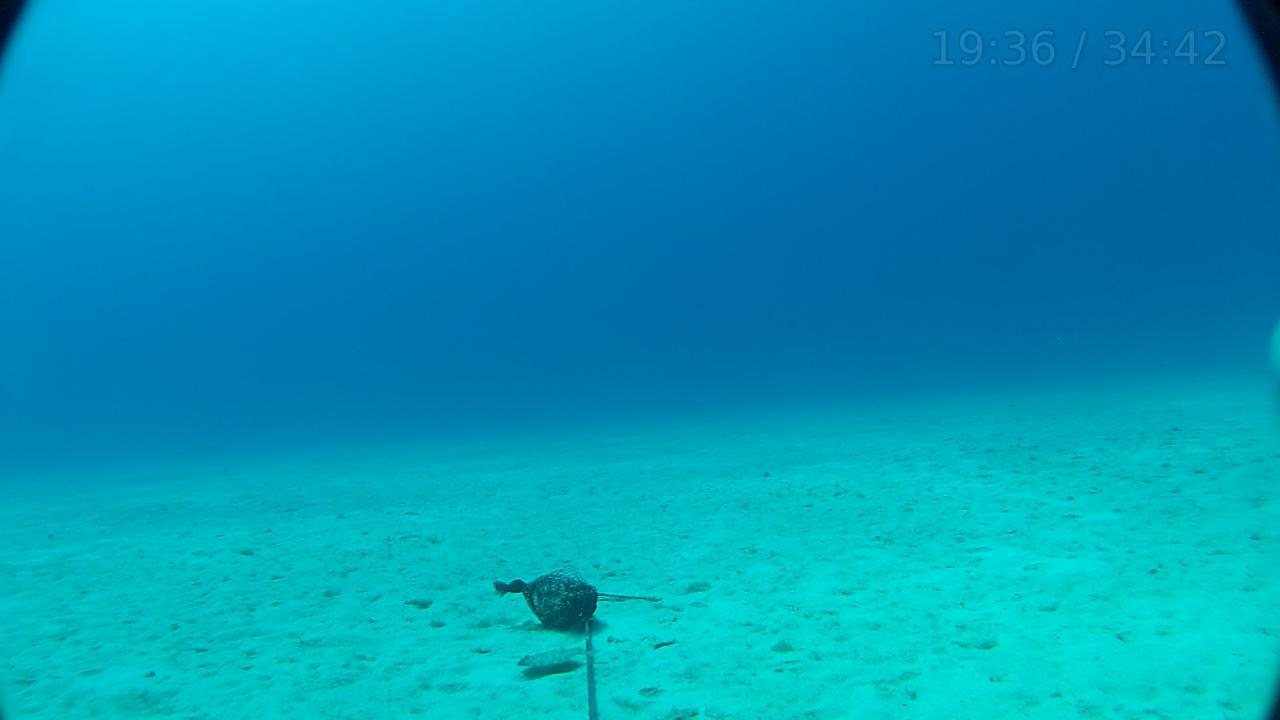bothus: (514, 636, 586, 680)
